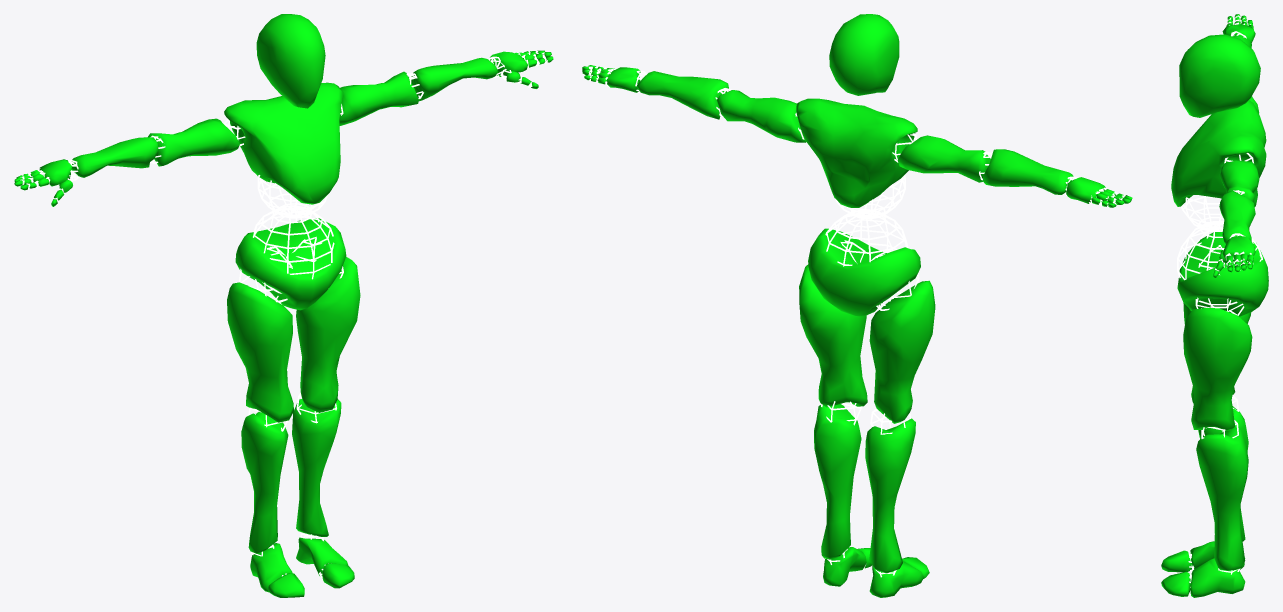
Rendered from spawn-point.glb.
3 views of the same model, side by side, from view 1: azimuth 30°, elevation 25°; view 2: azimuth 150°, elevation 25°; view 3: azimuth 270°, elevation 25° (orthographic). The views are drawn at different scales.
Visible parts, largest first — view 1: Razer6; view 2: Razer6; view 3: Razer6.
Boxes of the visible parts, x1,y1,x2,y2 form: Razer6: (14, 14, 553, 597); Razer6: (582, 14, 1132, 597); Razer6: (1161, 14, 1268, 597).
Bounding box in the file's own units: 1.8 × 1.79 × 0.3213.
